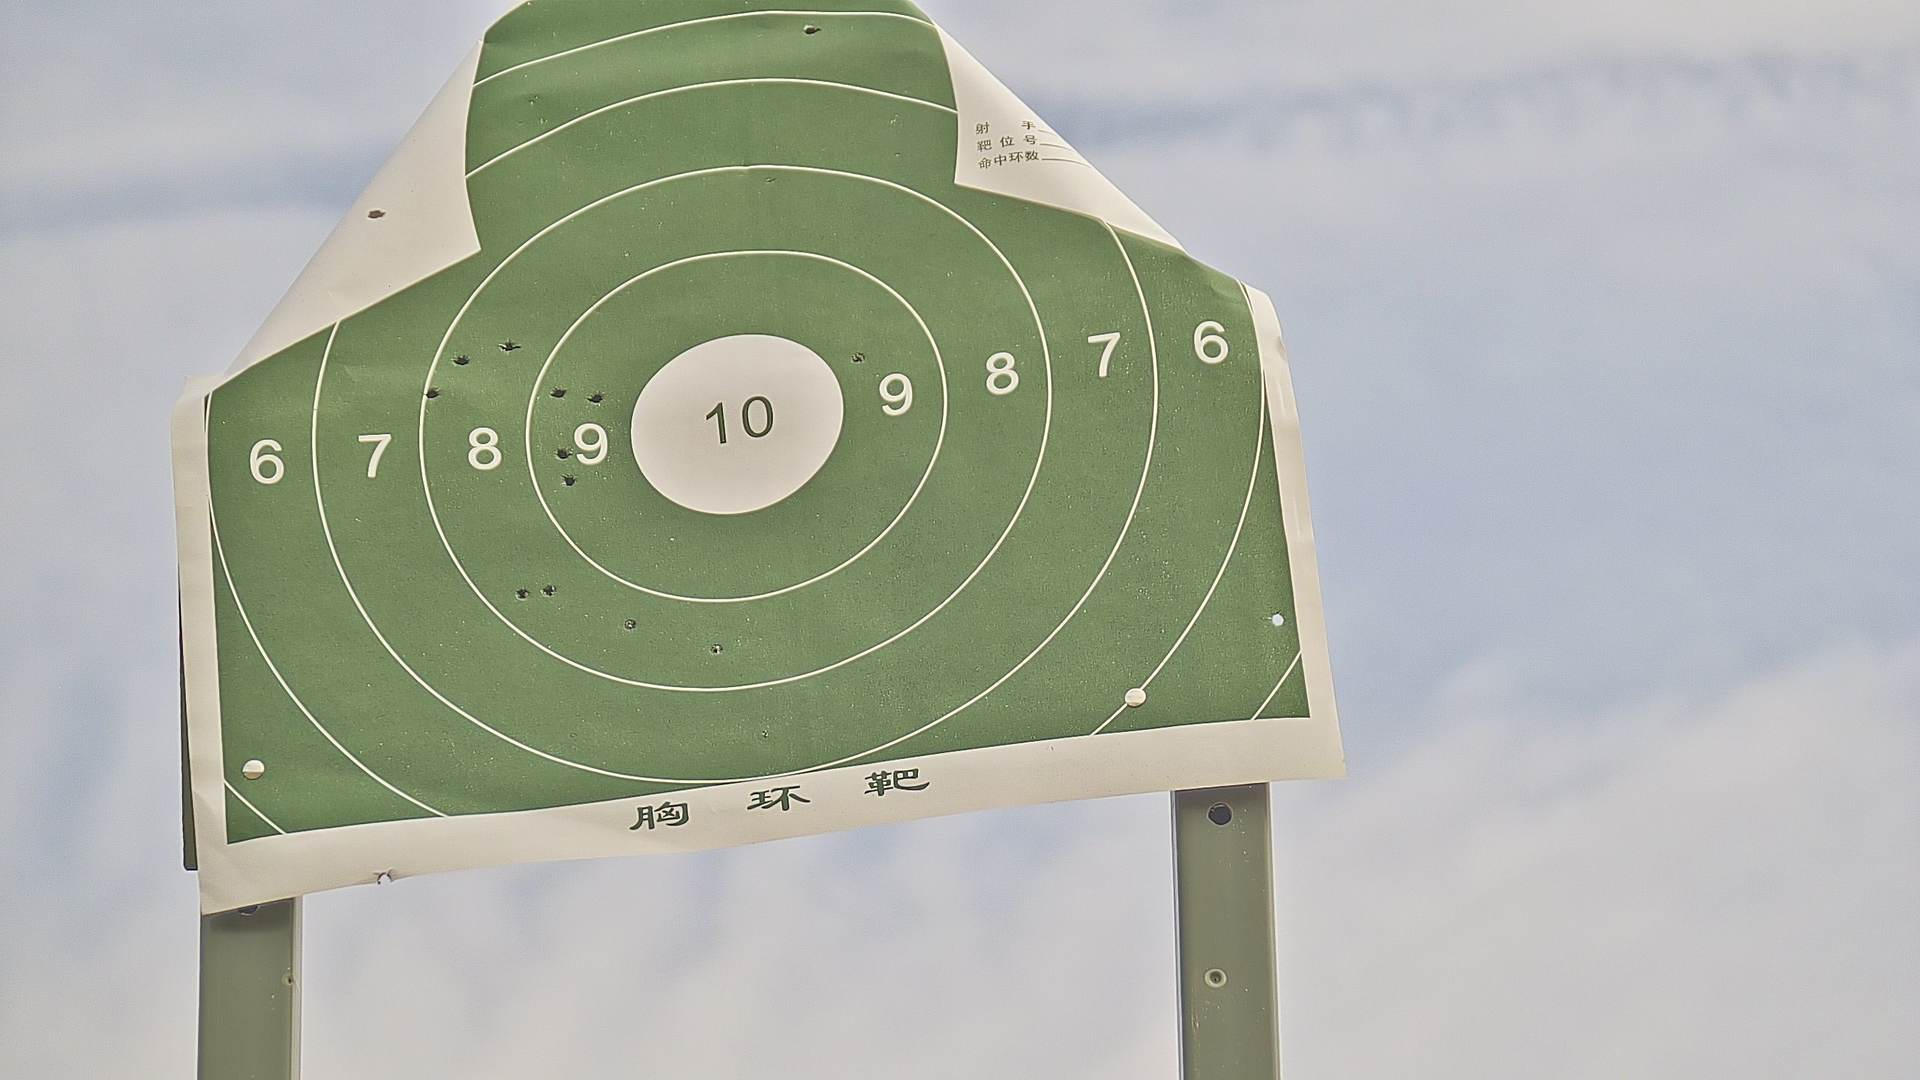hole: (852, 349, 866, 365), (454, 353, 469, 367), (1271, 611, 1284, 625), (541, 582, 555, 595), (425, 386, 440, 398), (711, 642, 724, 655), (558, 447, 571, 459), (589, 390, 603, 402), (553, 385, 564, 398), (502, 340, 516, 352), (804, 22, 818, 33), (514, 588, 527, 599), (564, 473, 575, 487), (626, 618, 636, 628)
kernel: (733, 419, 741, 423)
target: (202, 3, 1312, 847)
ten: (622, 334, 848, 516)
